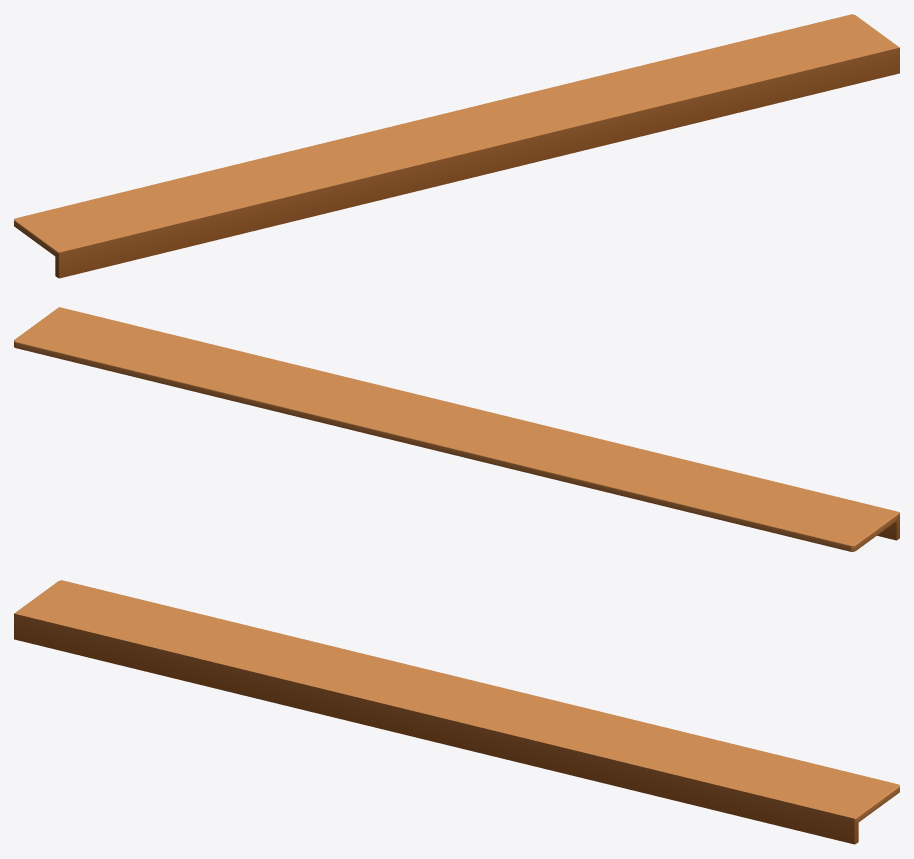
The model's file is Table.fbx.
3 renders of one model, top to bottom at view 1: azimuth 30°, elevation 25°; view 2: azimuth 150°, elevation 25°; view 3: azimuth 330°, elevation 25°, orthographic.
Visible parts, largest first — view 1: Table; view 2: Table; view 3: Table.
Boxes of the visible parts, <box> form: Table: <box>14,14,899,278</box>; Table: <box>14,307,899,551</box>; Table: <box>14,580,899,844</box>.
Size of the model in its own units: 8467 by 248 by 811.
